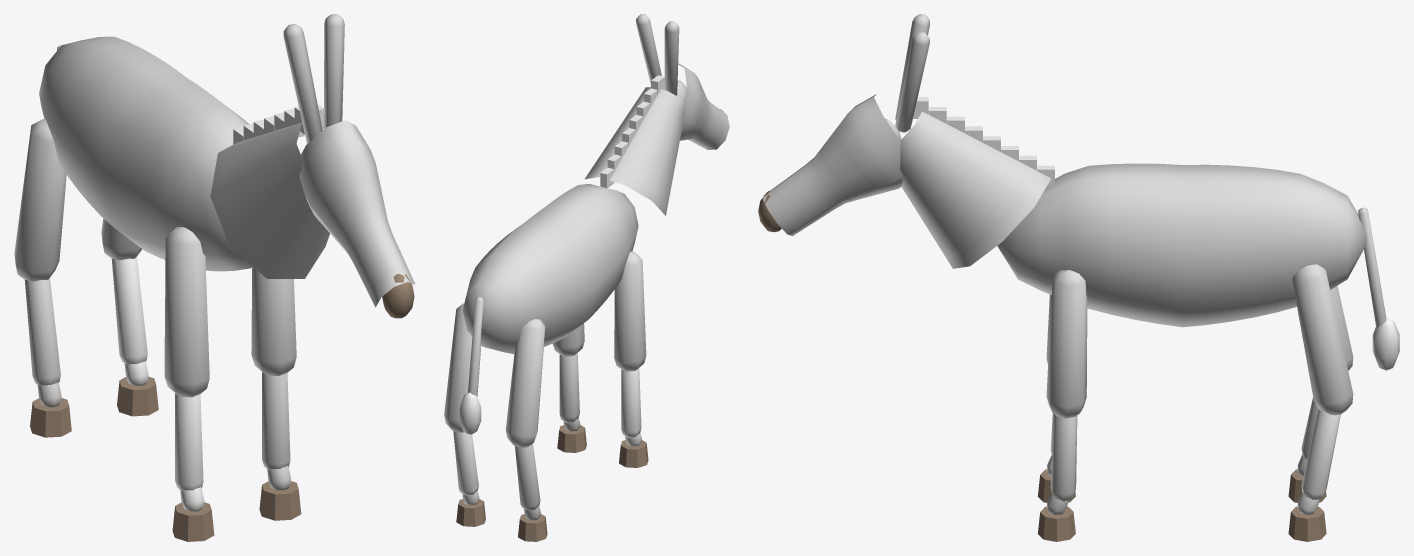
File: donkey-standing-grey.glb
3 views of the same model, side by side, from view 1: azimuth 30°, elevation 25°; view 2: azimuth 150°, elevation 25°; view 3: azimuth 270°, elevation 25° (orthographic). The views are drawn at different scales.
Visible parts, largest first — view 1: donkey-standing-grey; view 2: donkey-standing-grey; view 3: donkey-standing-grey.
Boxes of the visible parts, x1=… form: donkey-standing-grey: x1=14, y1=14, x2=415, y2=541; donkey-standing-grey: x1=444, y1=14, x2=729, y2=541; donkey-standing-grey: x1=758, y1=14, x2=1399, y2=541.
Bounding box in the file's own units: 0.3992 × 1.67 × 1.98.
